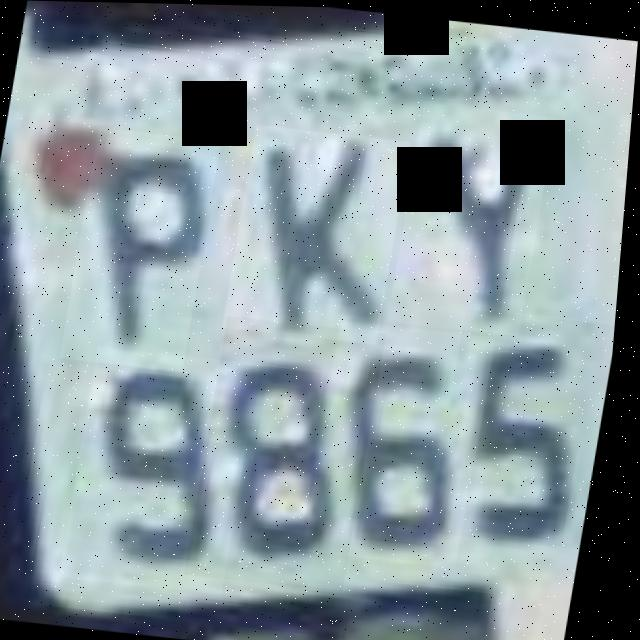5: (436, 306, 621, 546)
6: (310, 318, 501, 566)
8: (193, 314, 393, 590)
9: (67, 345, 267, 594)
K: (226, 123, 413, 343)
P: (64, 127, 224, 371)
Y: (391, 100, 558, 333)
